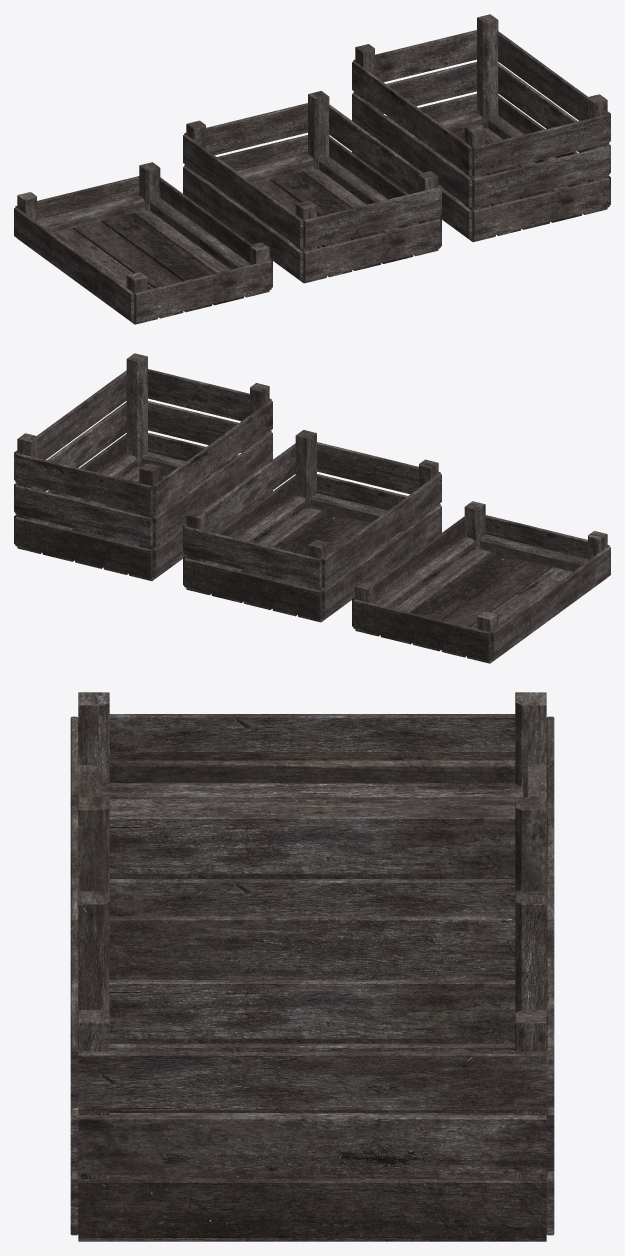
File: wooden_box.glb
The picture shows the model from 3 angles, top to bottom: view 1: azimuth 30°, elevation 25°; view 2: azimuth 150°, elevation 25°; view 3: azimuth 270°, elevation 25°; orthographic projection. The views are drawn at different scales.
Visible parts, largest first — view 1: wooden_box1, wooden_box2, wooden_box3; view 2: wooden_box1, wooden_box2, wooden_box3; view 3: wooden_box1, wooden_box3, wooden_box2.
Part boxes in pixels (<box>): wooden_box1: <box>352,14,610,241</box>; wooden_box2: <box>183,91,441,283</box>; wooden_box3: <box>14,162,272,324</box>; wooden_box1: <box>14,353,272,580</box>; wooden_box2: <box>183,430,441,622</box>; wooden_box3: <box>352,501,610,663</box>; wooden_box1: <box>70,891,554,1241</box>; wooden_box3: <box>70,692,554,878</box>; wooden_box2: <box>70,797,554,1043</box>.
Size of the model in its own units: 1.42 by 0.31 by 0.62.
Materials: 1 (1 with a texture image).
